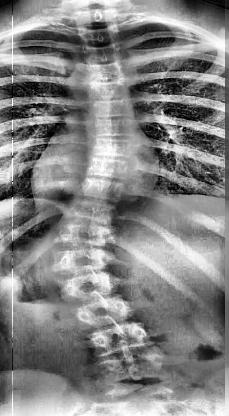Vertebrae: (80, 325, 158, 353), (53, 216, 117, 250), (63, 277, 125, 304), (74, 300, 139, 324), (82, 153, 134, 183), (66, 195, 116, 225), (54, 252, 119, 275), (75, 176, 127, 202), (89, 118, 134, 140), (83, 63, 130, 83), (75, 25, 121, 45), (88, 138, 132, 158), (88, 82, 132, 102), (90, 100, 136, 118), (81, 44, 125, 62), (74, 6, 117, 23)
